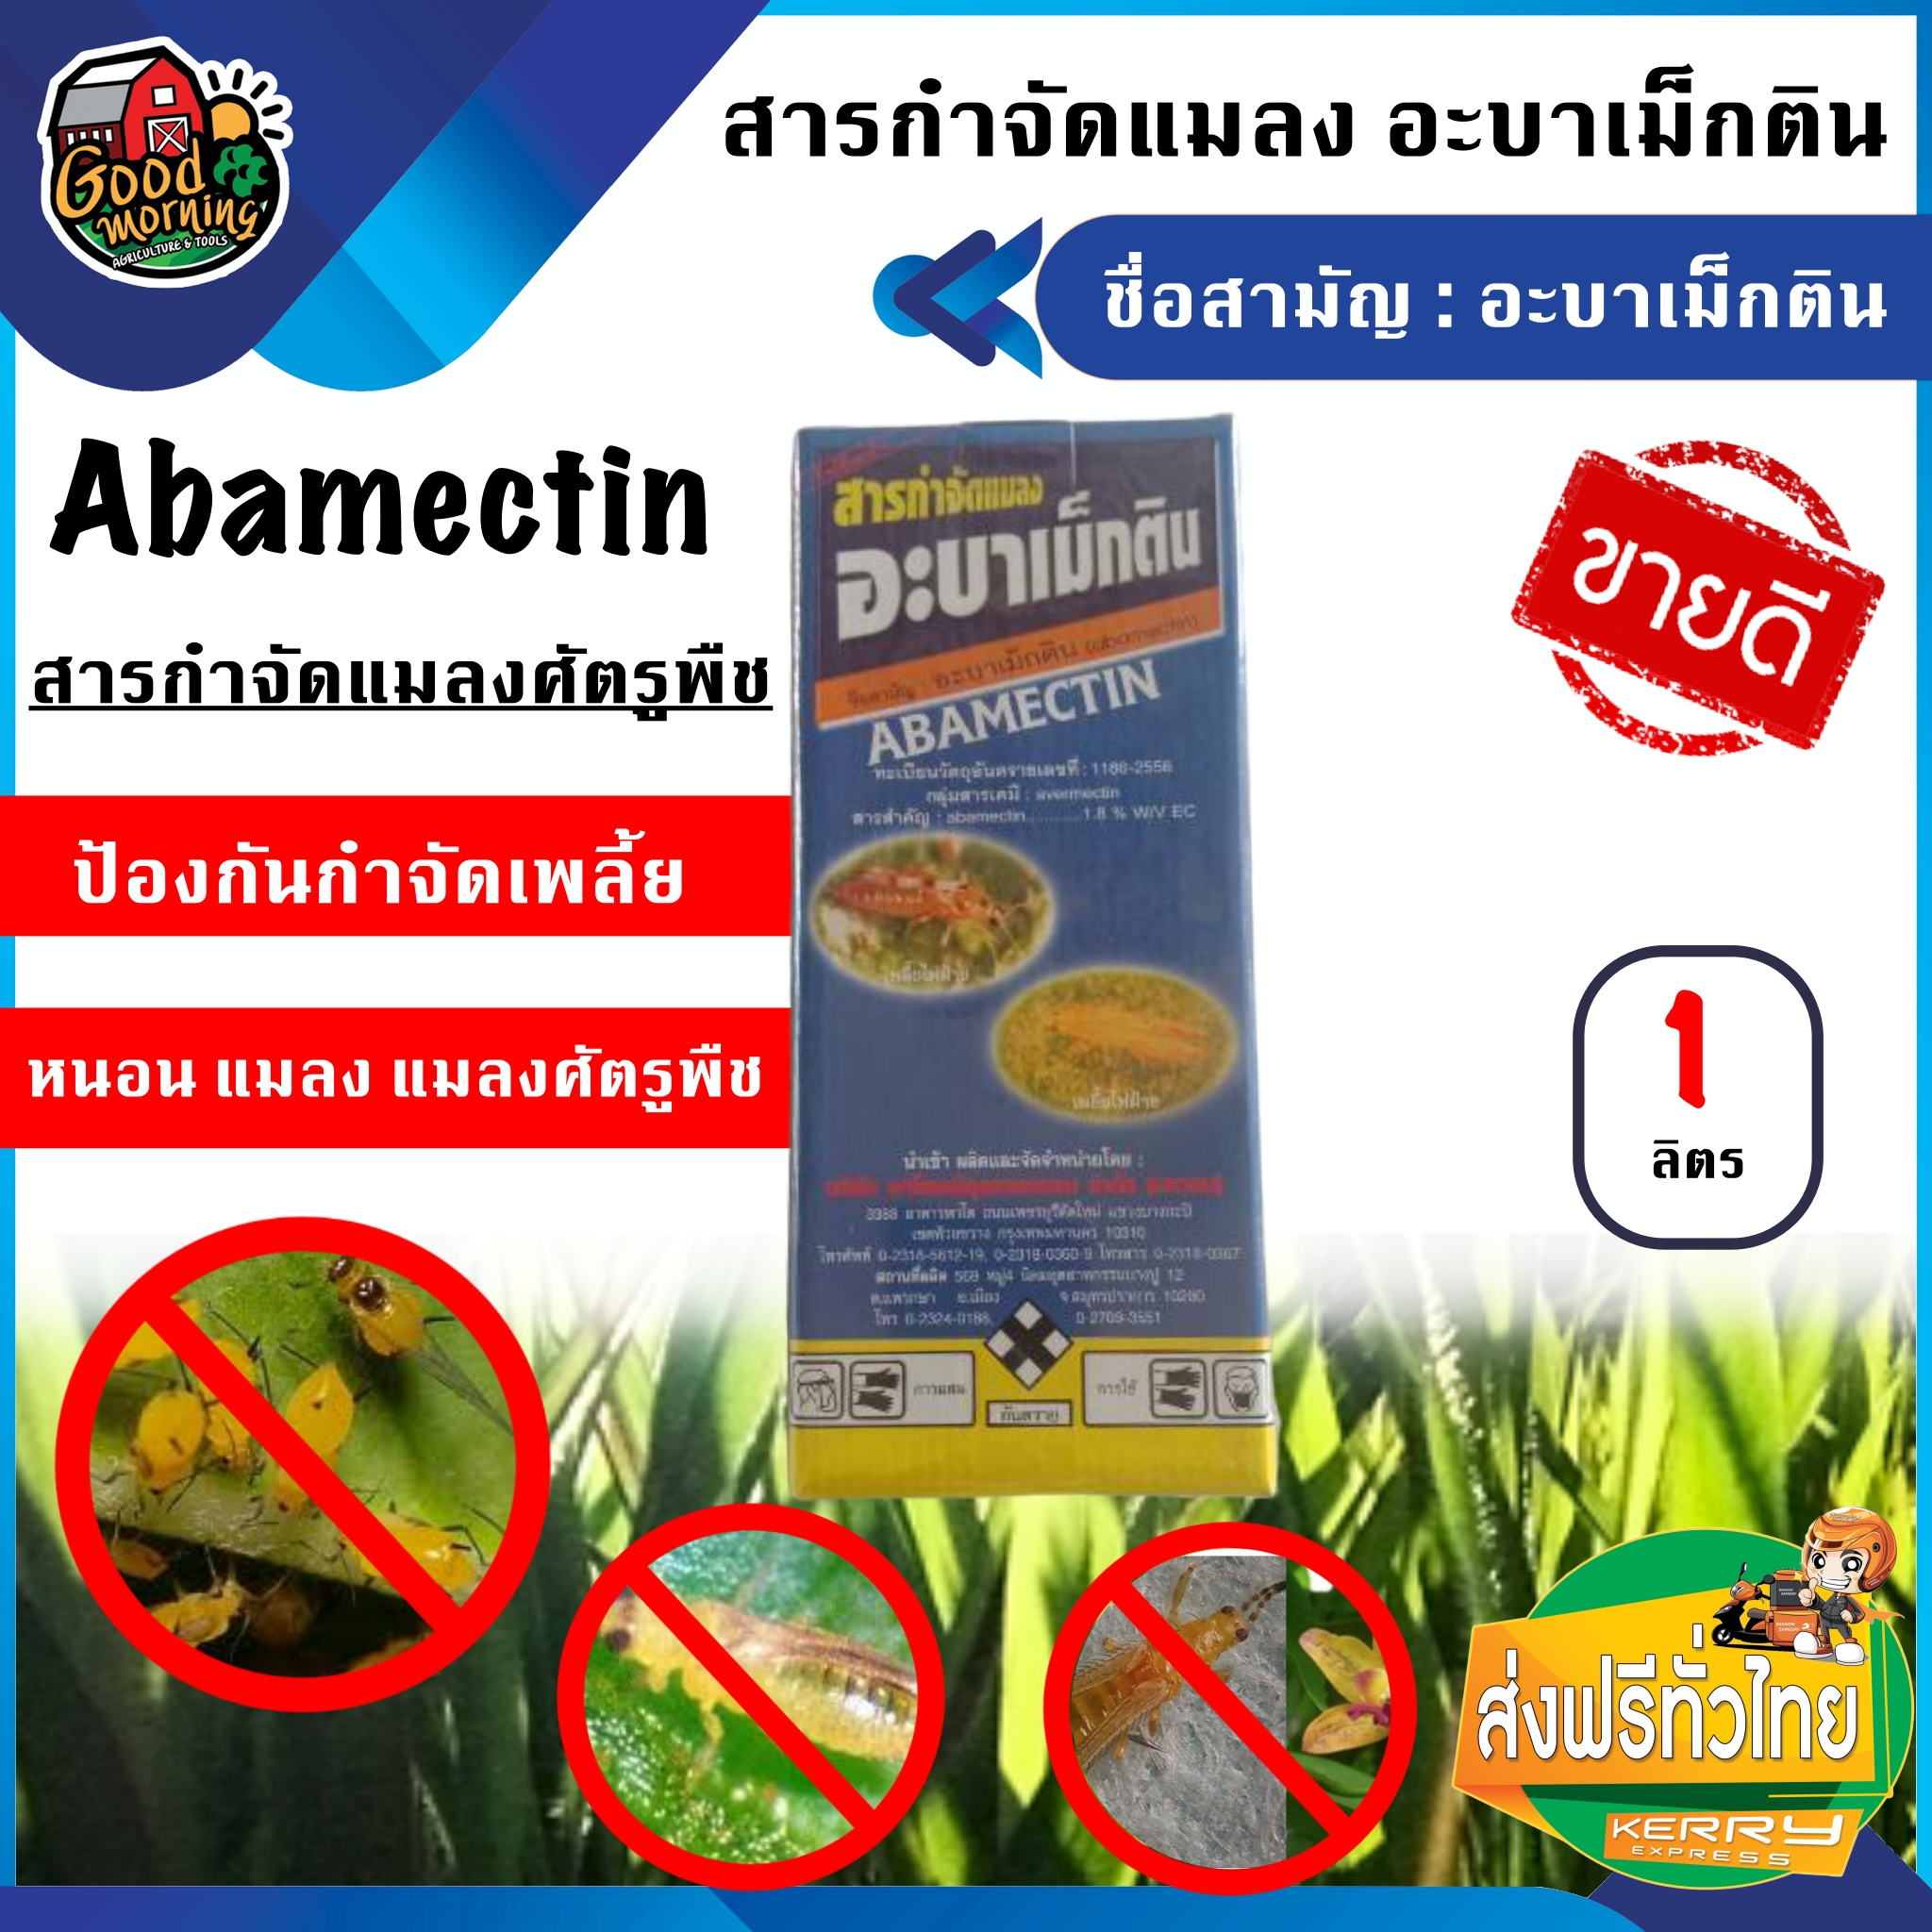Insecticide: (777, 409, 1309, 1511)
